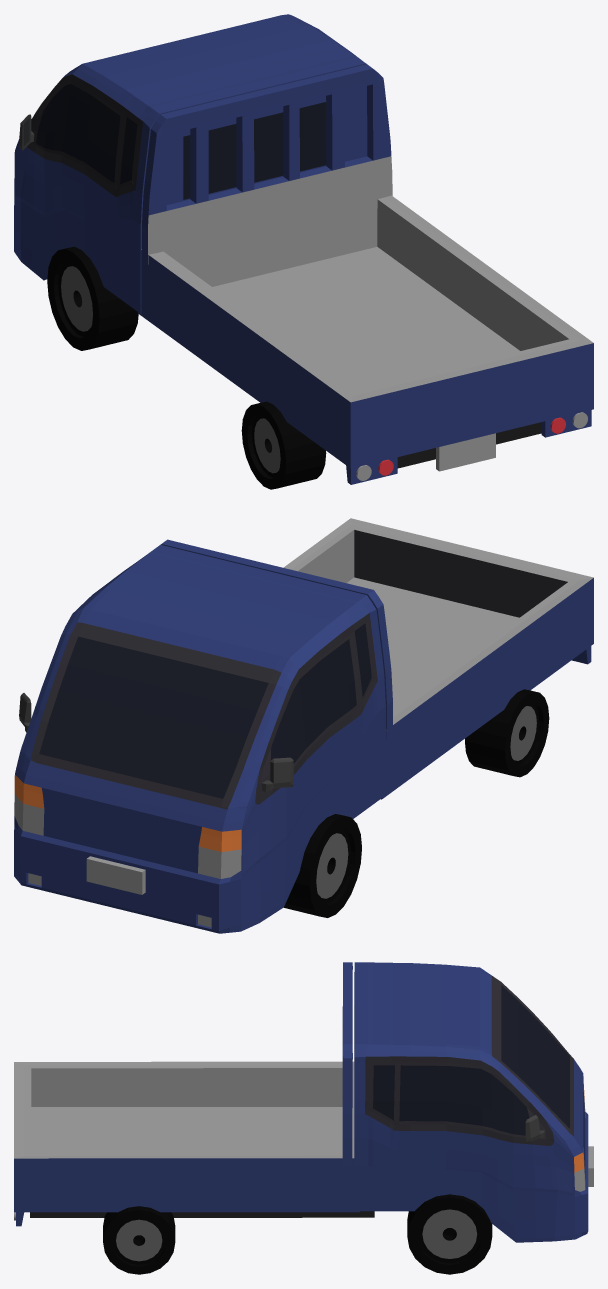
Rendered from truck.fbx.
The picture shows the model from 3 angles, top to bottom: view 1: azimuth 30°, elevation 25°; view 2: azimuth 150°, elevation 25°; view 3: azimuth 270°, elevation 25°; orthographic projection. The views are drawn at different scales.
Visible parts, largest first — view 1: 큐브.002, 실린더.004; view 2: 큐브.002, 실린더.004, 큐브.001; view 3: 큐브.002, 실린더.004.
Part boxes in pixels (x1,y1,x2,y2): 큐브.002: (14, 14, 593, 484); 실린더.004: (47, 246, 326, 489); 큐브.002: (14, 518, 593, 933); 실린더.004: (284, 689, 549, 917); 큐브.001: (19, 693, 293, 791); 큐브.002: (14, 962, 593, 1242); 실린더.004: (103, 1194, 492, 1274).
Size of the model in its own units: 334 by 317 by 758.
